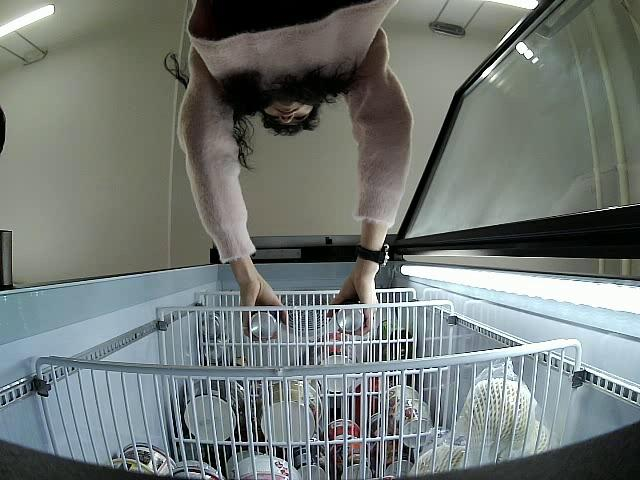00_hand: (239, 274, 289, 343), (327, 275, 378, 336)
